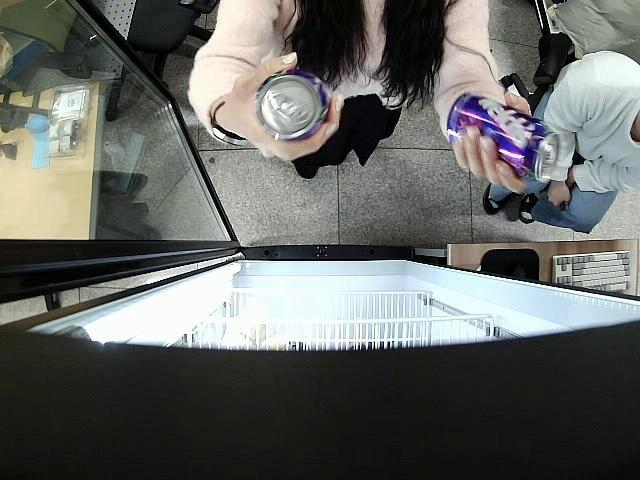14_welchsGrape: (445, 92, 560, 185), (255, 68, 332, 143)
